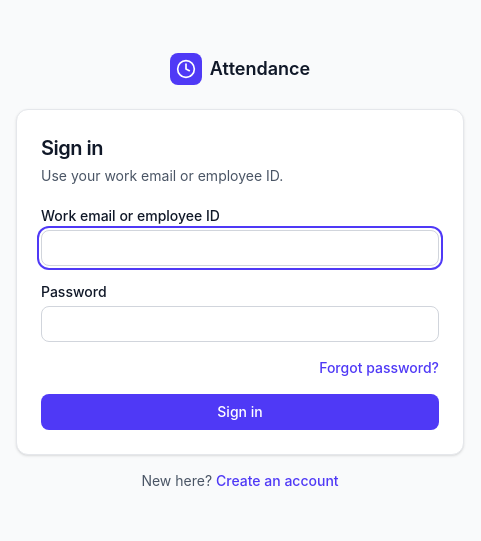
Scenario: LoginPage › shows a network error
In the field labelled "Work email or employee ID": [240, 248] box [41,230,439,266], type "a@kxn.com"
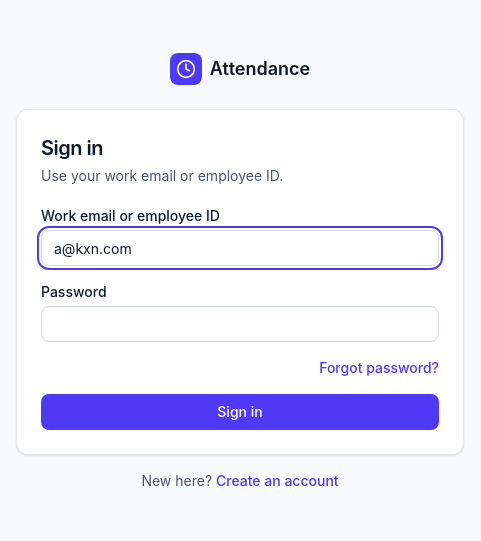
In the password field labelled "Password": [240, 324] box [41,306,439,342], type "x"
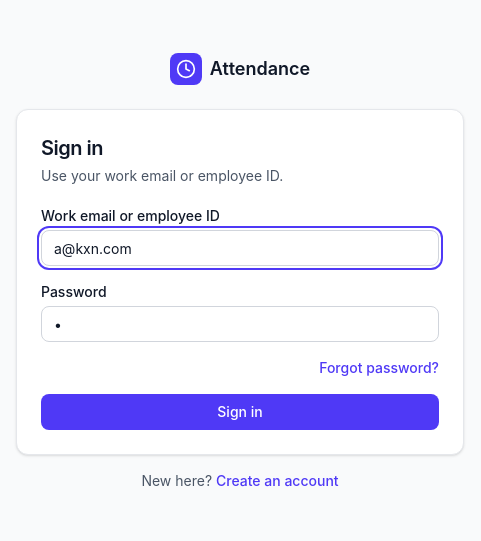
Click the button "Sign in": [240, 412] box [41,394,439,430]
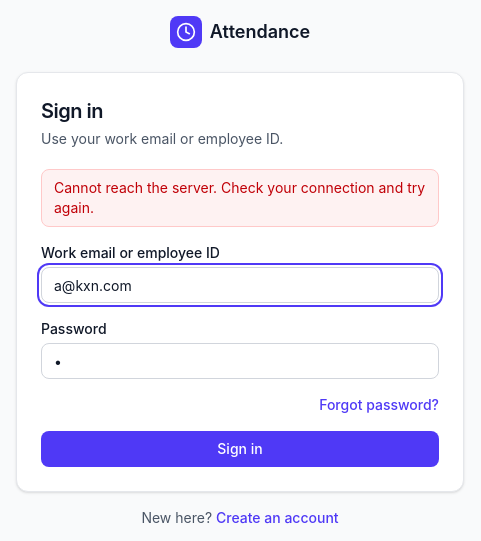
Expected: the text "Cannot reach the server. Check your connection and try again." is shown, [41,169,439,227]
